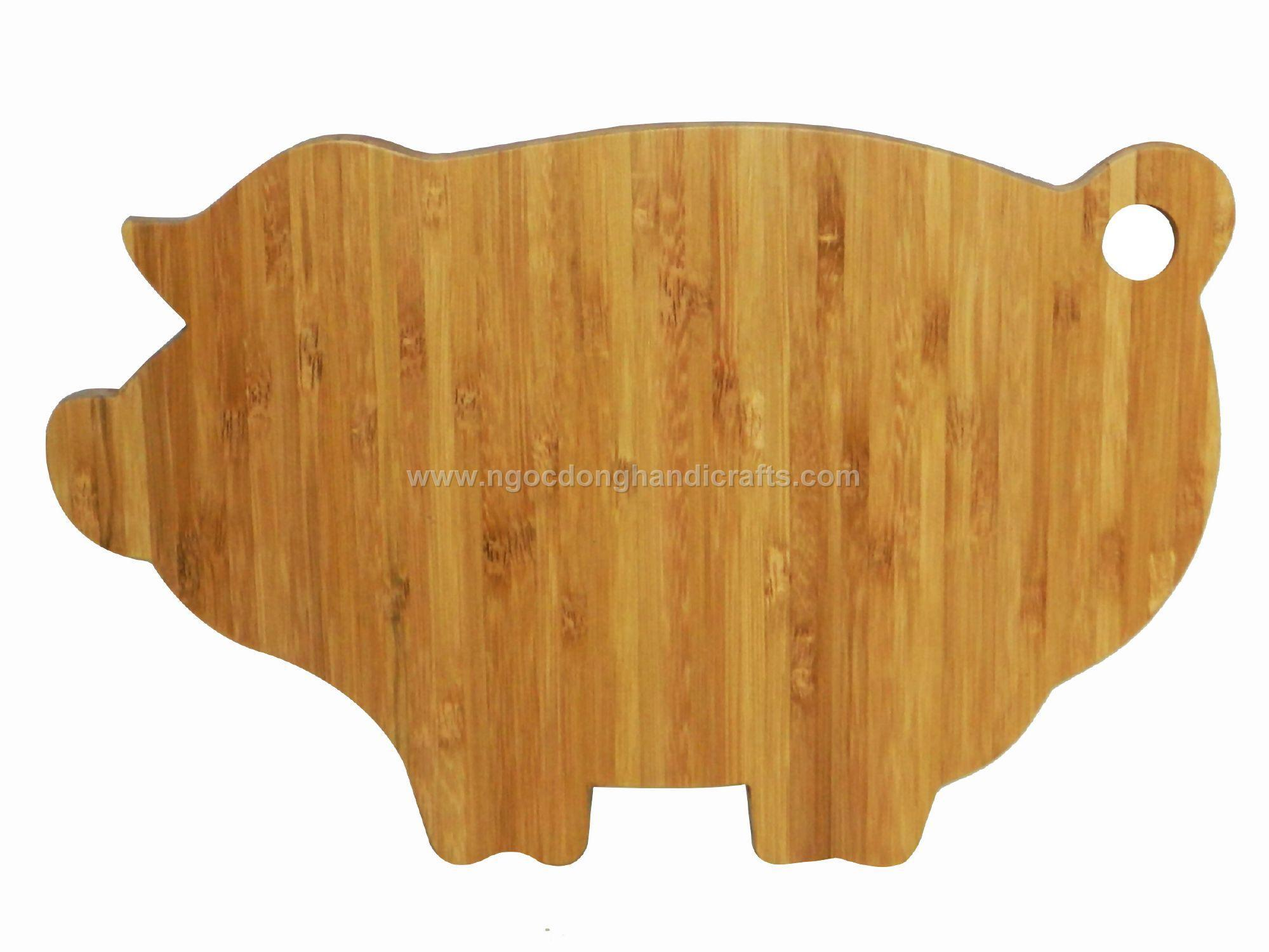gloved_hand: (36, 106, 1238, 873)
